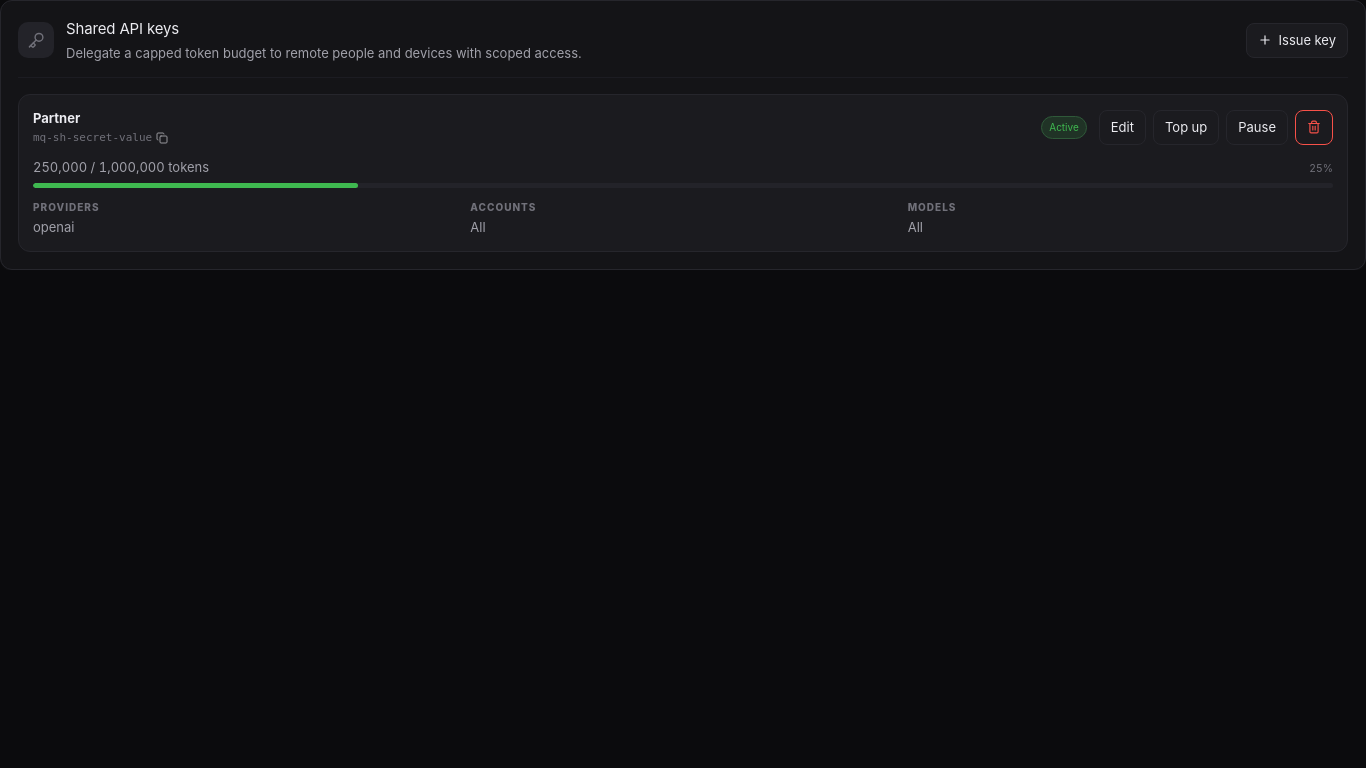
Test: SharedKeysCard dialogs and secrets › masks the edit API key value behind a reveal toggle
Click the button with aria-label "Edit Partner" at (1122, 128), box x1=1099 y1=110 x2=1146 y2=145
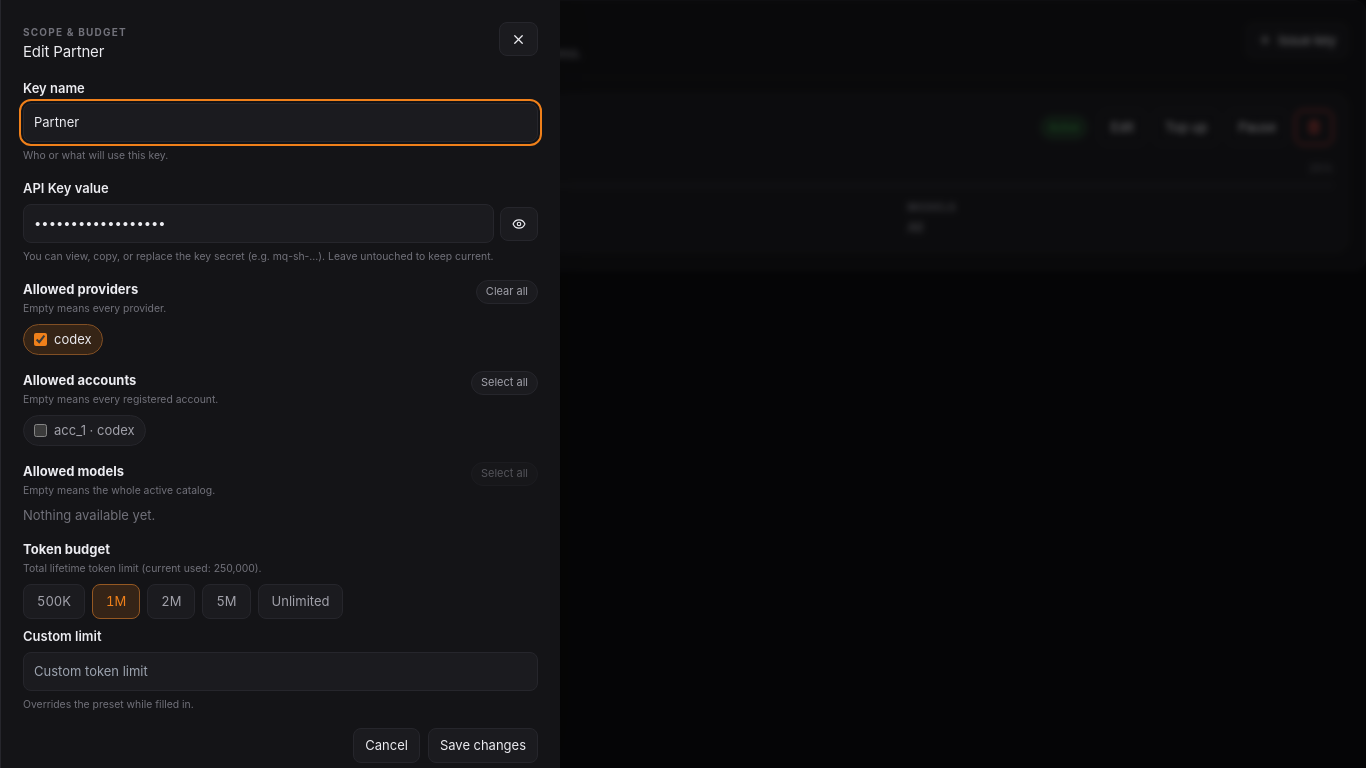
Expected: the password field with placeholder "Set or regenerate secret key" holds "mq-sh-secret-value", x1=23 y1=204 x2=494 y2=243
Click the button named "Show API key value" at (519, 224), box x1=500 y1=207 x2=538 y2=241
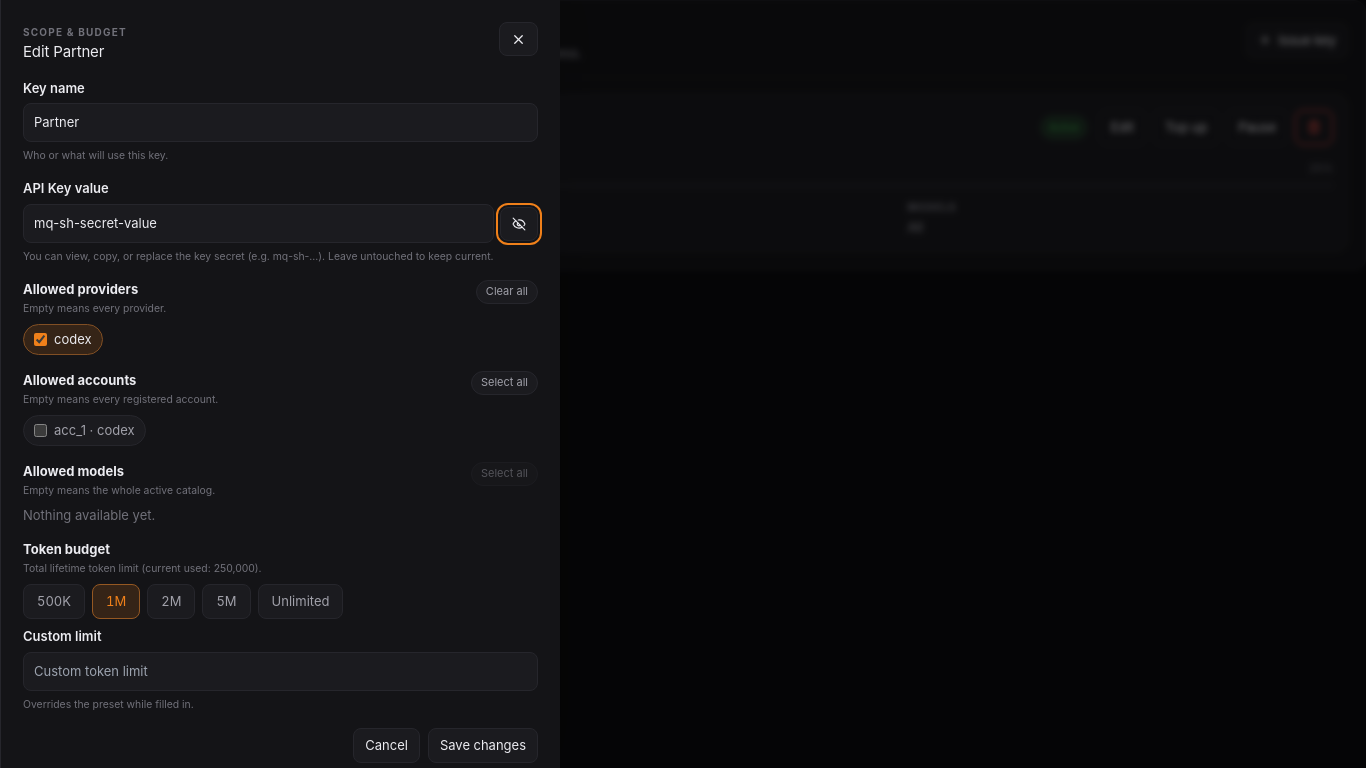
Expected: the field with placeholder "Set or regenerate secret key" below "API Key value" shows its text, x1=23 y1=204 x2=494 y2=243
Click the button named "Hide API key value" at (519, 224), box x1=500 y1=207 x2=538 y2=241
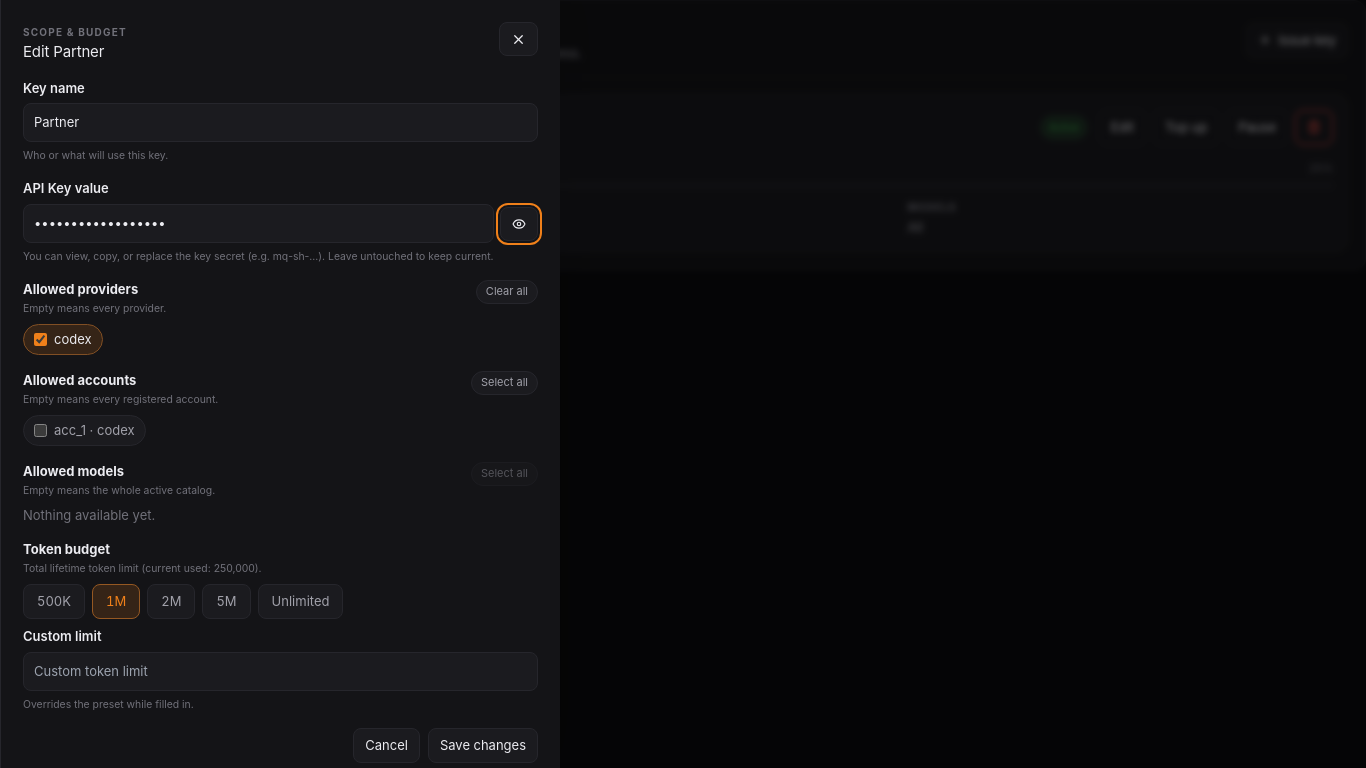
Expected: the password field with placeholder "Set or regenerate secret key" hides its text, x1=23 y1=204 x2=494 y2=243
